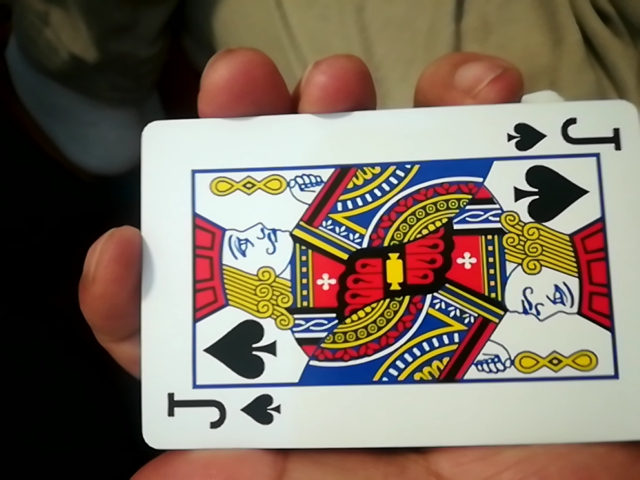ht j: (130, 103, 633, 460)
